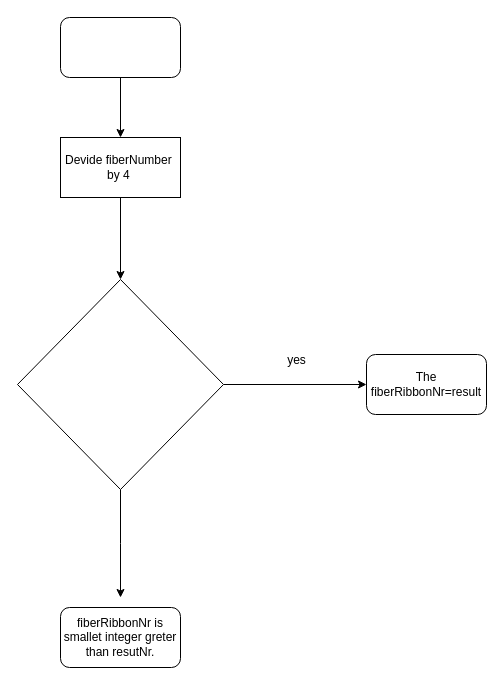
Some shapes in this 504 by 685 pixel diagram are drawn without their labels. Here are the shapes that lost their labels. From the top down, the centre of each, then its label:
At pixel 120 47: "Enter fiberNumber".
At pixel 120 384: "IS the result an integer?".
